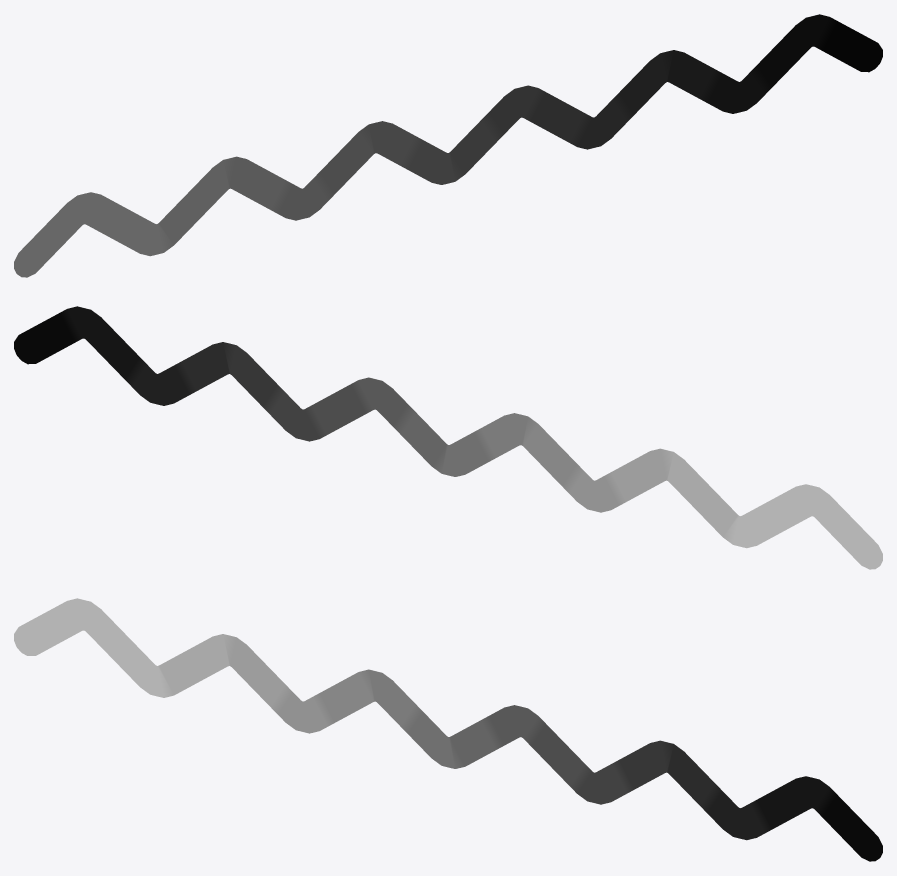
3 views of the same model, one above another, from view 1: azimuth 30°, elevation 25°; view 2: azimuth 150°, elevation 25°; view 3: azimuth 330°, elevation 25° (orthographic).
Visible parts, largest first — view 1: Joint_0_Object_0; view 2: Joint_0_Object_0; view 3: Joint_0_Object_0.
Part boxes in pixels (left/top/right/bottom): Joint_0_Object_0: left=14, top=14, right=882, bottom=277; Joint_0_Object_0: left=14, top=306, right=882, bottom=569; Joint_0_Object_0: left=14, top=598, right=882, bottom=861.
Size of the model in its own units: 631 by 54.55 by 0.
1 material, 1 textured.
